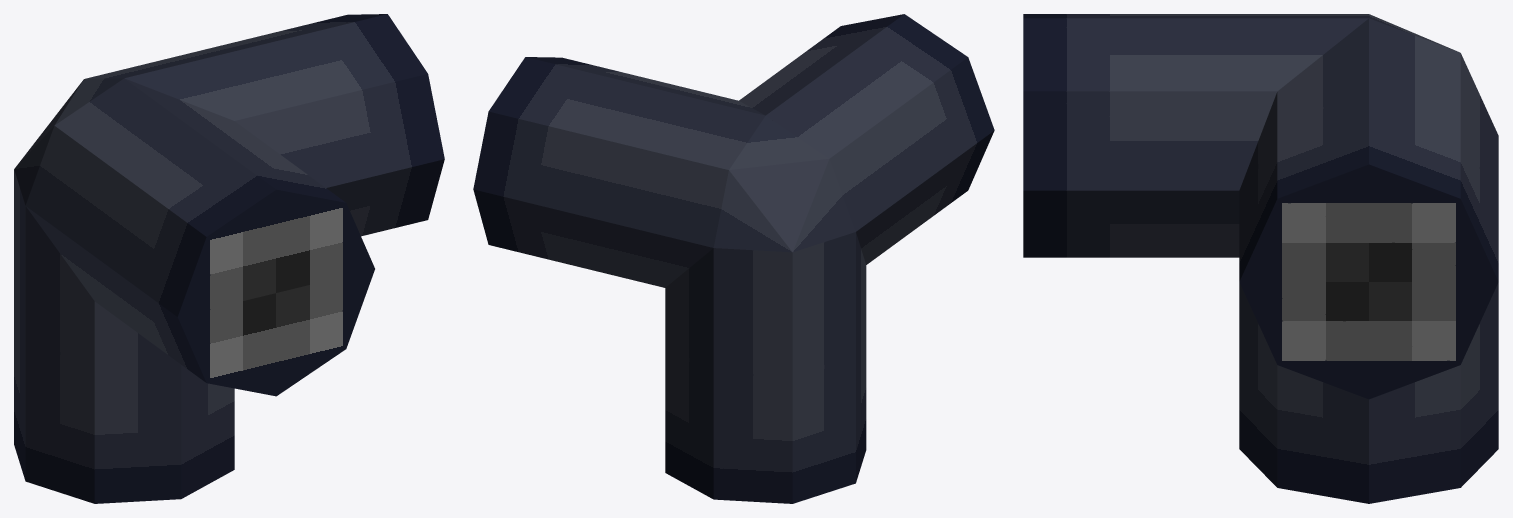
File: neo_38.obj
3 views of the same model, side by side, from view 1: azimuth 30°, elevation 25°; view 2: azimuth 150°, elevation 25°; view 3: azimuth 270°, elevation 25° (orthographic). The views are drawn at different scales.
Visible parts, largest first — view 1: pipe; view 2: pipe; view 3: pipe.
Boxes of the visible parts, x1,y1,x2,y2 form: pipe: [14, 14, 444, 503]; pipe: [473, 14, 994, 503]; pipe: [1023, 14, 1498, 503].
Size of the model in its own units: 0.6875 by 0.6875 by 0.6875.
